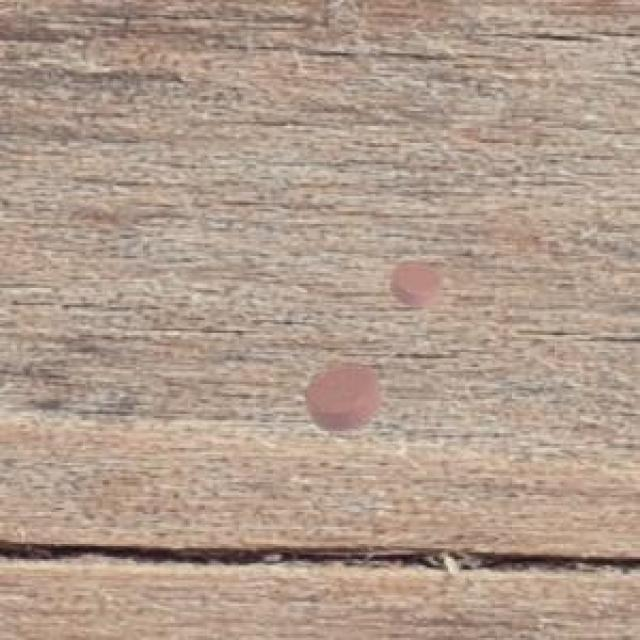Kremil_S: (300, 356, 395, 435), (377, 249, 455, 314)
